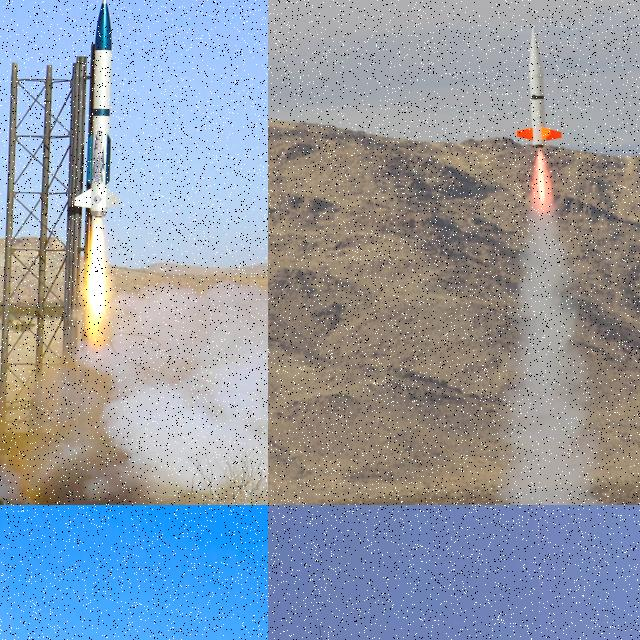Rocket: (74, 0, 121, 218), (516, 24, 563, 150), (318, 623, 328, 640)
